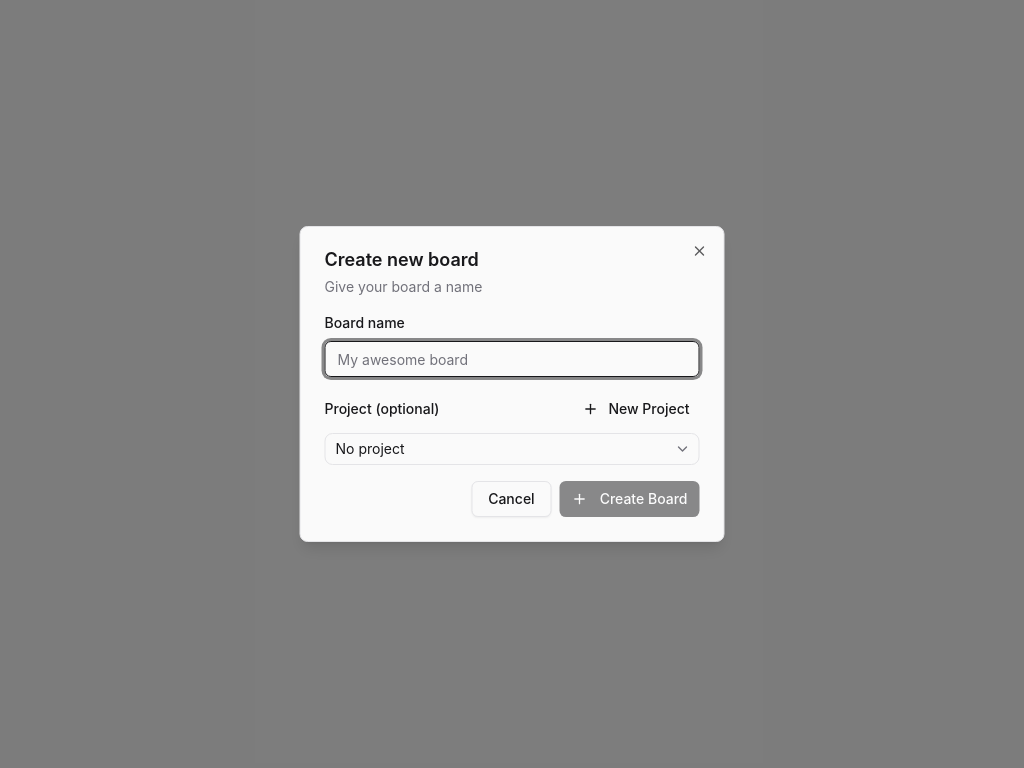
Test: BoardFormModal inline new project › preserves the selected project when toggling modes
The image size is (1024, 768).
Step 1. Click the dropdown named "project (optional)" → (370, 448), box [324,433,700,465]
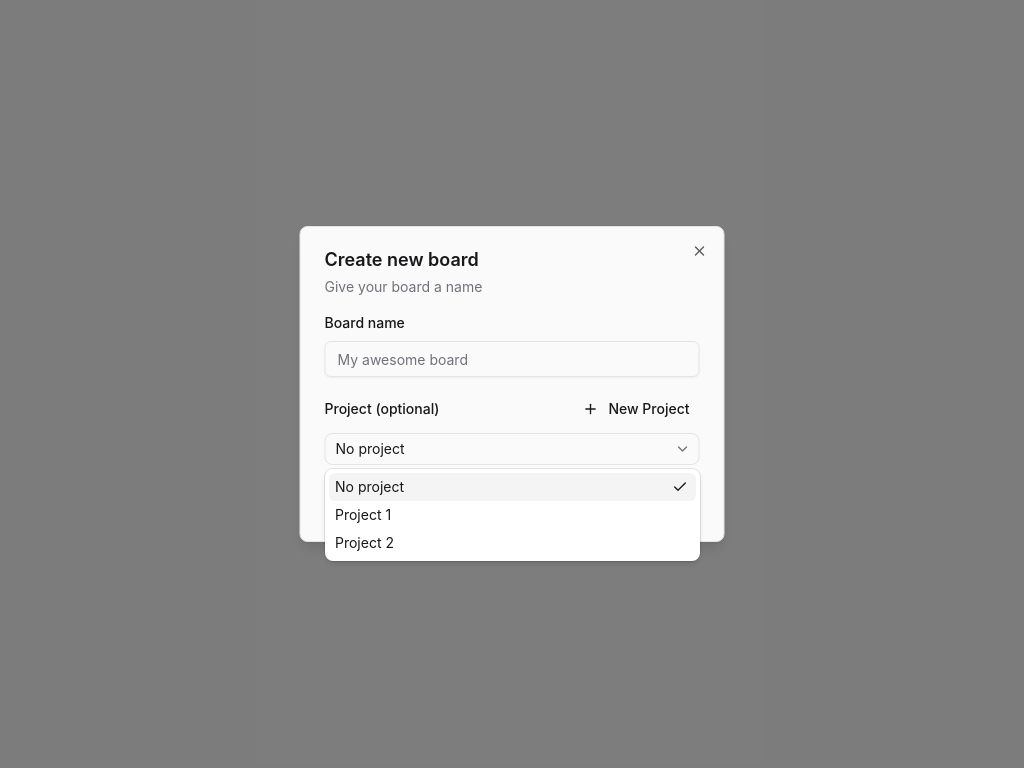
Step 2. Click the option "Project 2" → (364, 542), box [335,534,394,551]
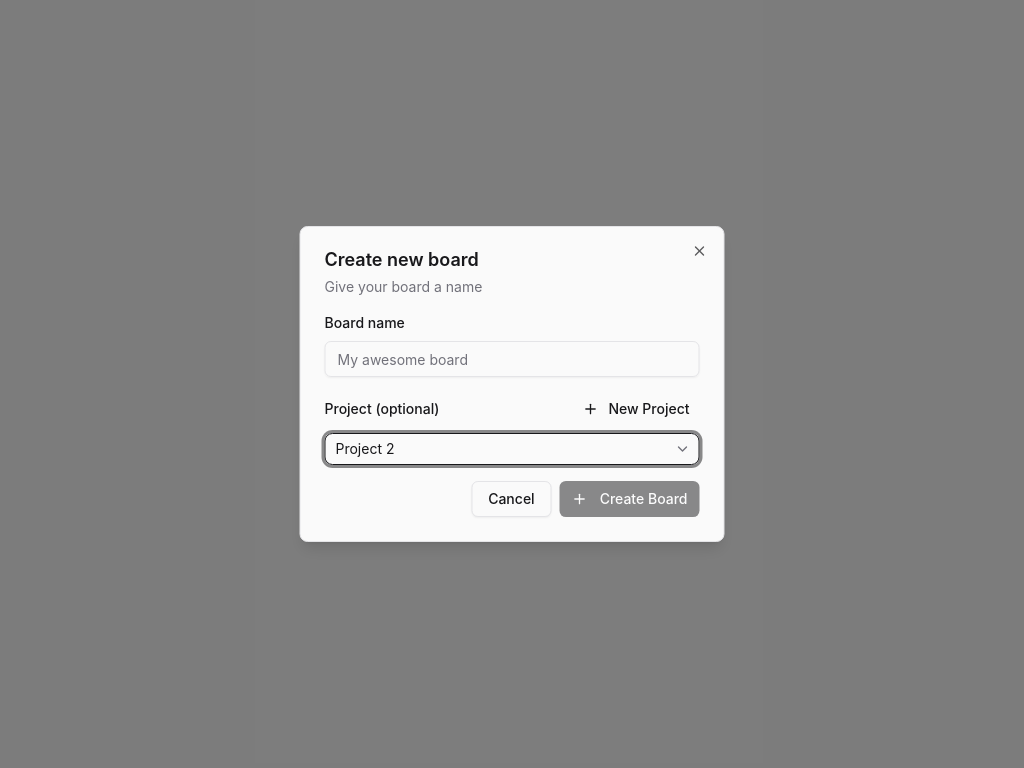
Check: the dropdown named "project (optional)" reads "Project 2", box [324,433,700,465]
Step 3. Click the button "New Project" → (636, 409), box [572,393,700,425]
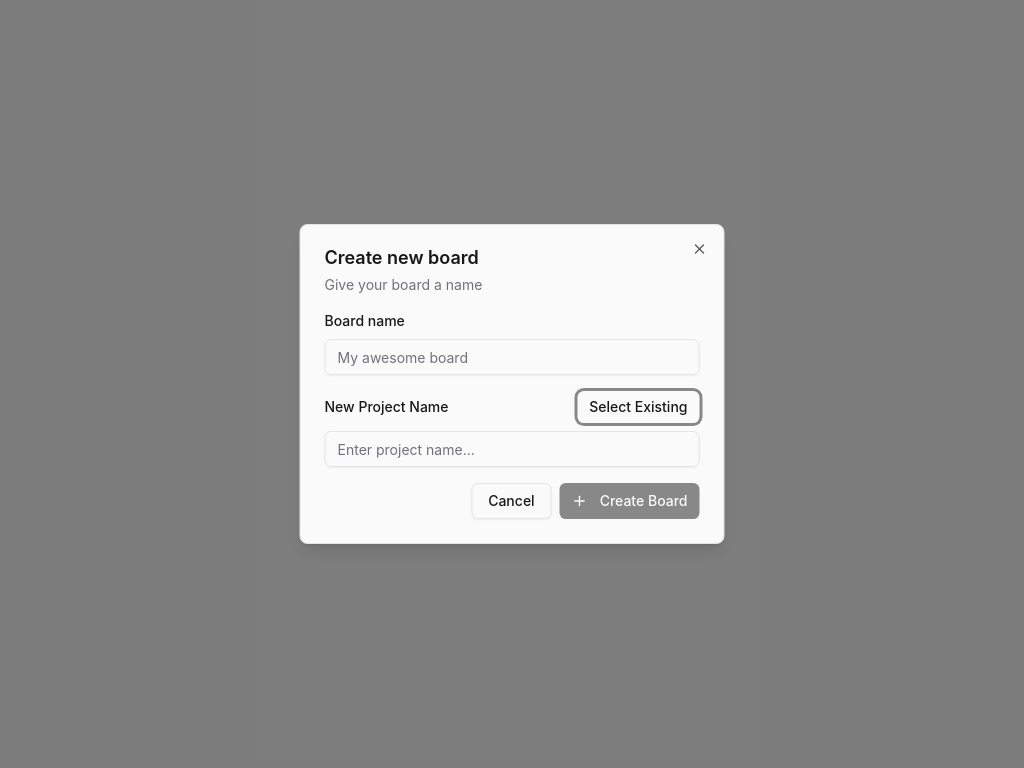
Step 4. Click the button "Select Existing" → (638, 407), box [577,391,700,423]
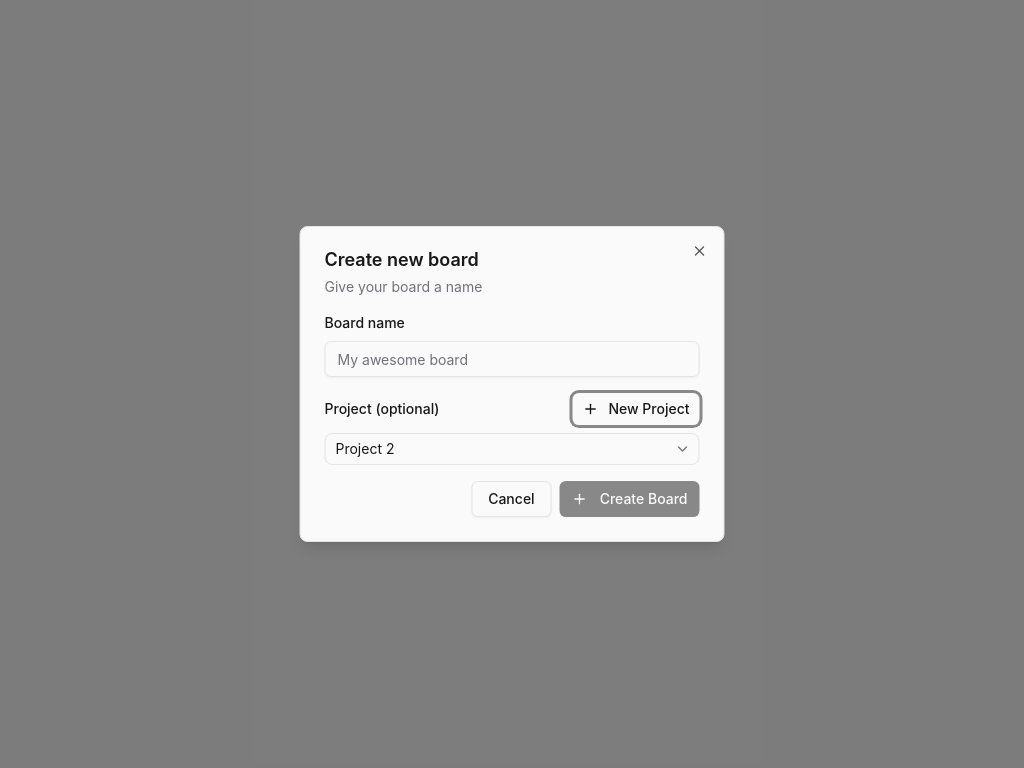
Check: the dropdown named "project (optional)" reads "Project 2", box [324,433,700,465]
